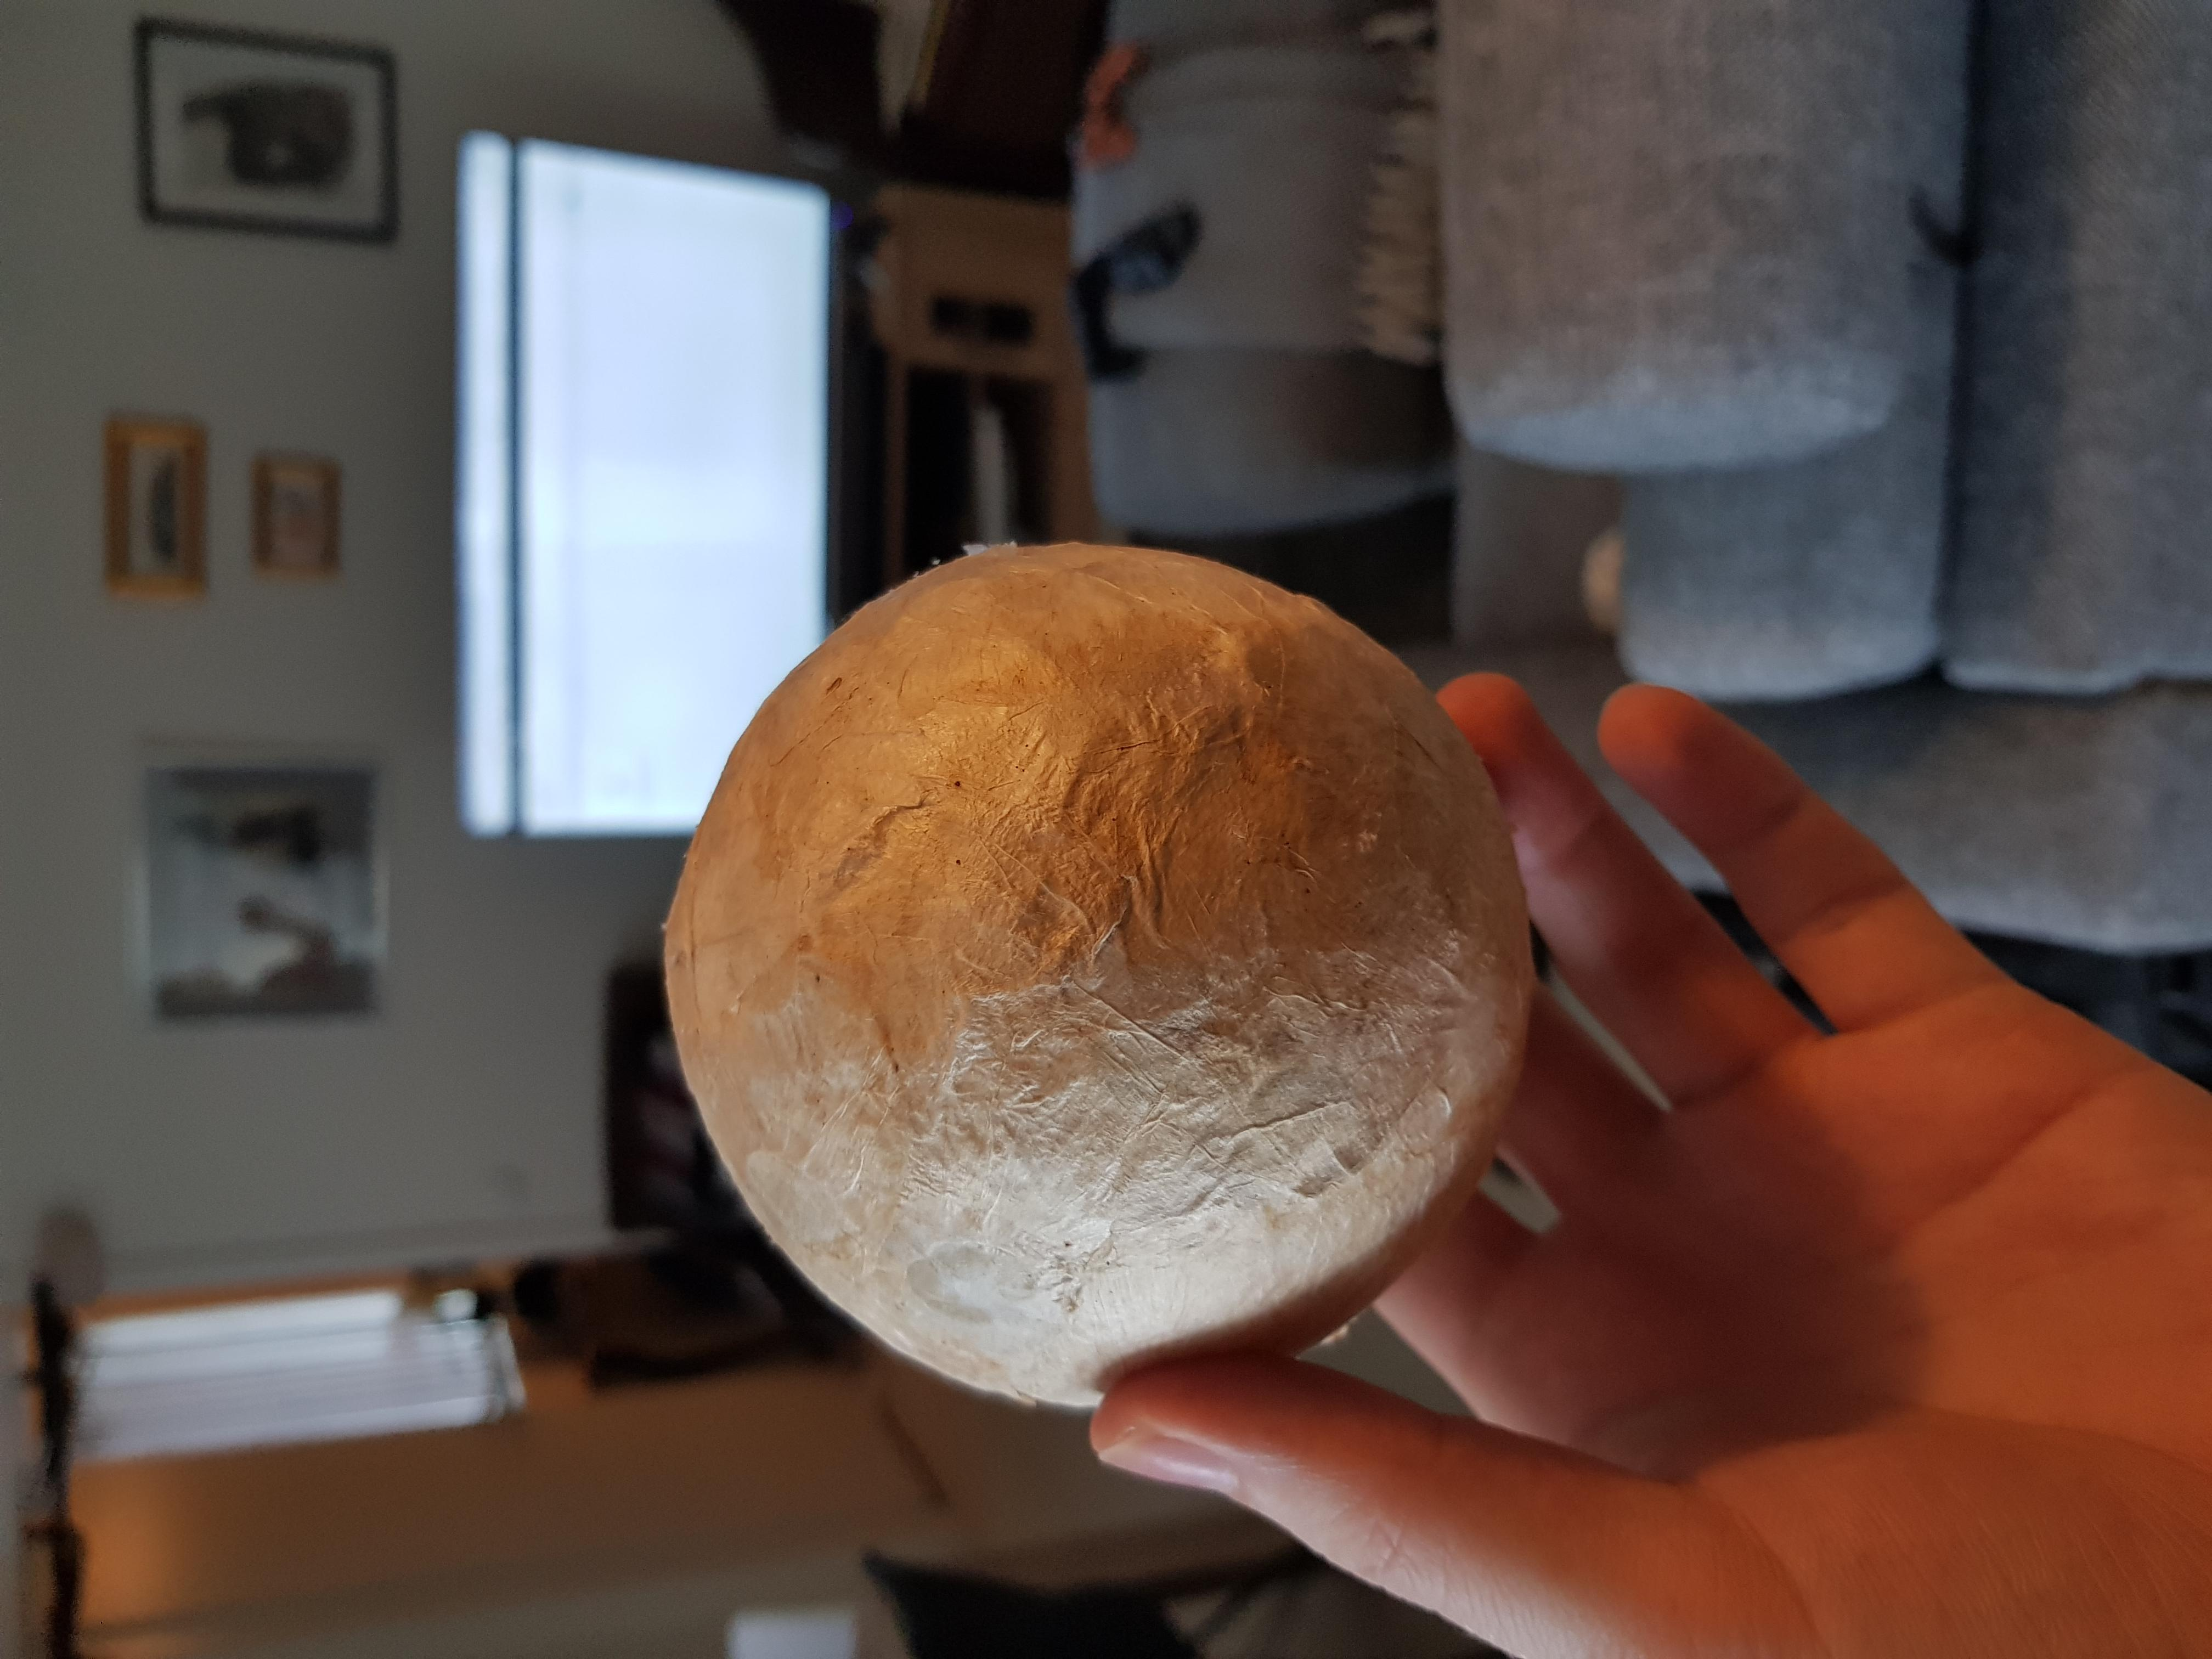sphere: (651, 540, 1540, 1412)
